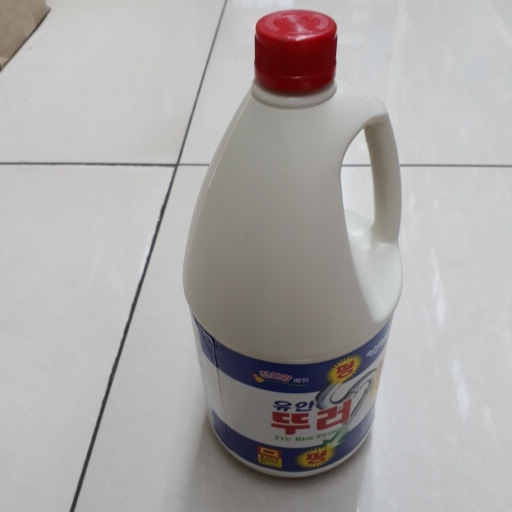Plastic_1: (183, 9, 406, 478)
